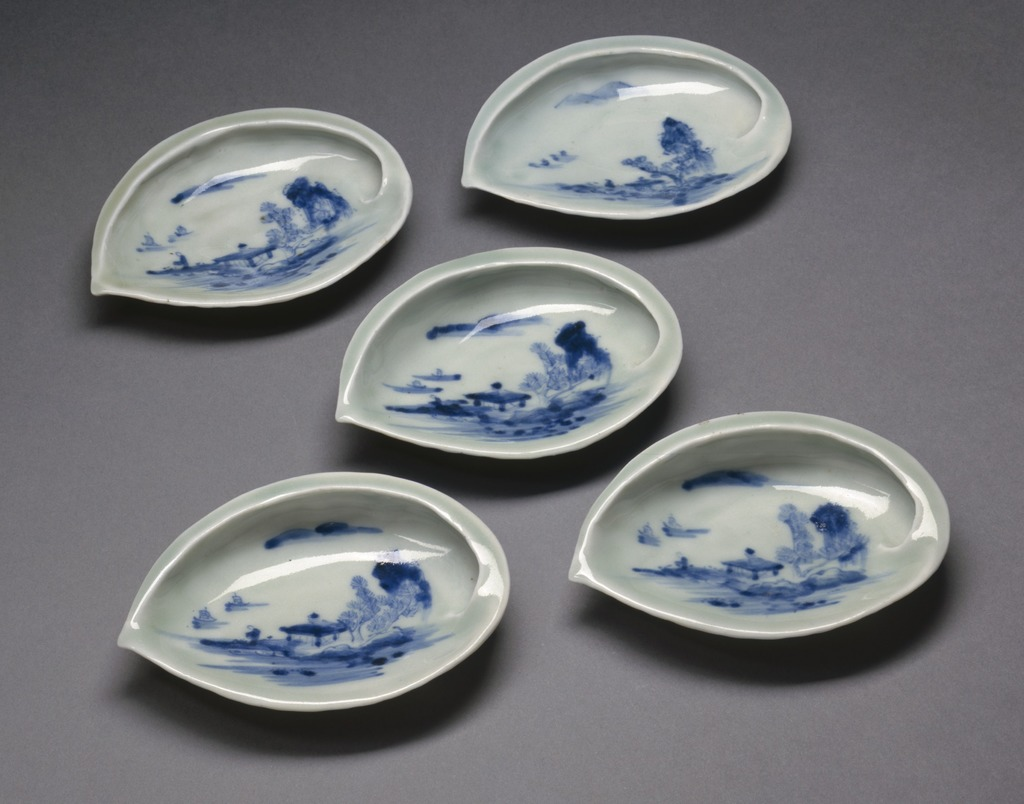plate: (116, 471, 510, 714), (567, 409, 950, 641), (330, 244, 686, 465), (88, 103, 412, 309), (435, 34, 784, 222)
